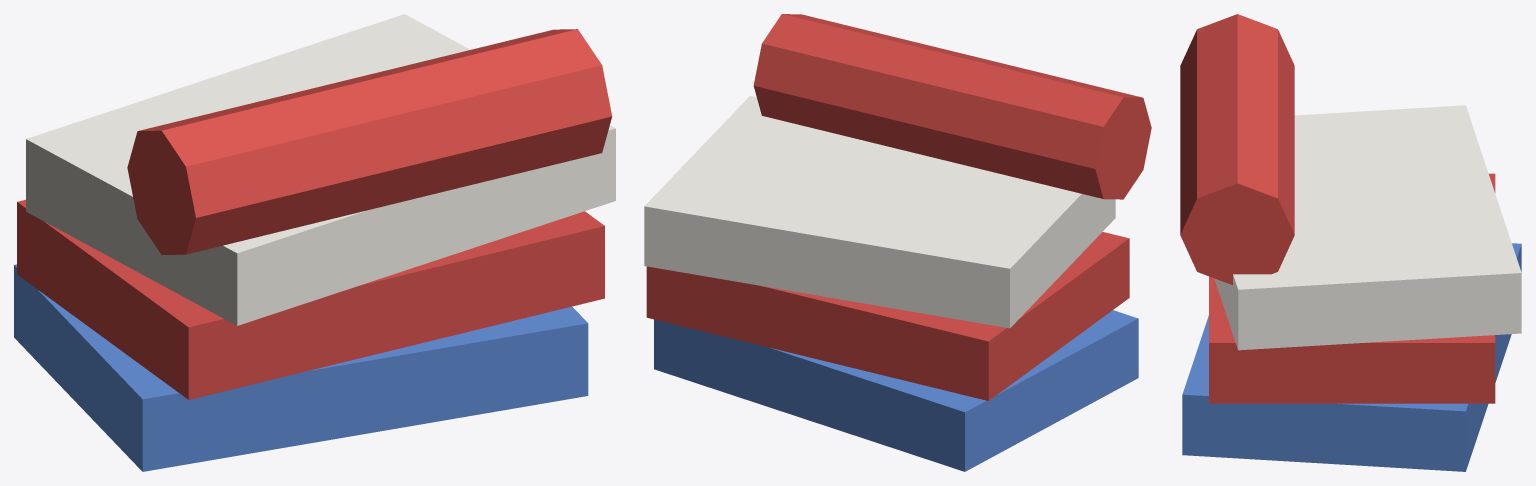
Rendered from cloth_roll.obj.
3 views of the same model, side by side, from view 1: azimuth 30°, elevation 25°; view 2: azimuth 150°, elevation 25°; view 3: azimuth 270°, elevation 25° (orthographic). The views are drawn at different scales.
Visible parts, largest first — view 1: item; view 2: item; view 3: item.
Boxes of the visible parts, x1=… form: item: x1=14, y1=14, x2=615, y2=471; item: x1=644, y1=14, x2=1151, y2=471; item: x1=1180, y1=14, x2=1521, y2=471.
Size of the model in its own units: 0.4776 by 0.325 by 0.3578.
